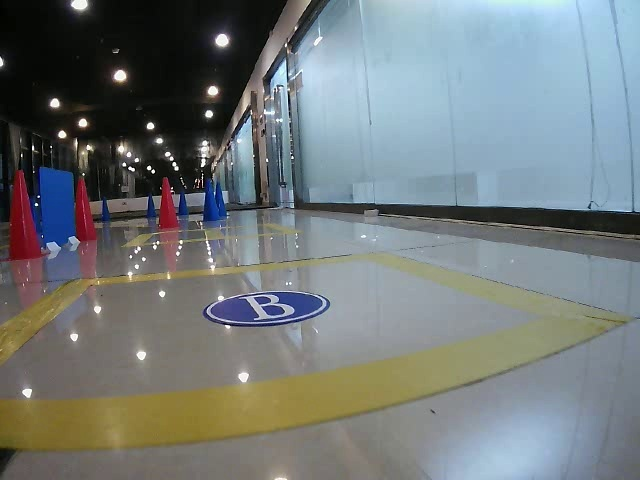B: (208, 290, 325, 324)
